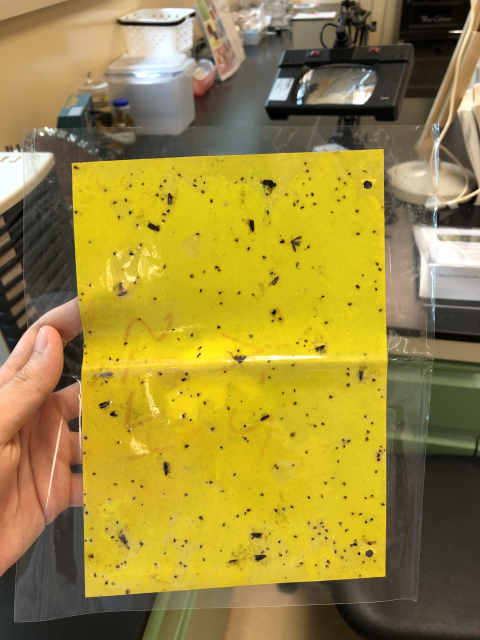DBM: (231, 354, 248, 368), (356, 367, 368, 385), (247, 217, 257, 236), (161, 461, 172, 478), (98, 398, 112, 410), (270, 274, 280, 288), (254, 553, 268, 562), (250, 531, 264, 540), (166, 191, 174, 206)
